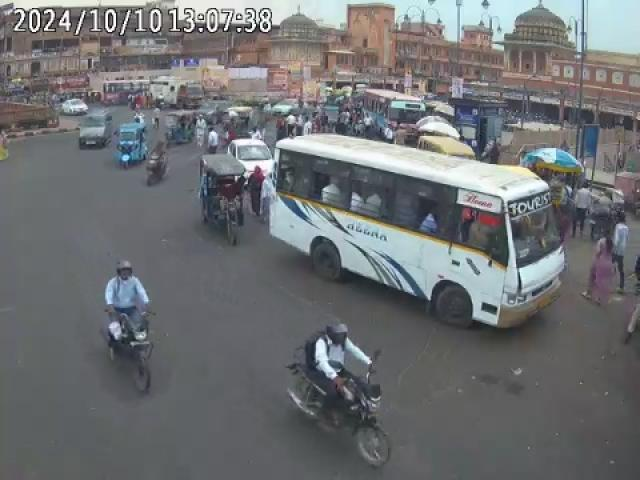auto: (198, 153, 250, 246), (114, 120, 147, 166), (160, 112, 194, 144)
bus: (272, 131, 570, 332), (368, 86, 432, 134)
car: (78, 111, 114, 150), (59, 99, 90, 116)
helmet: (323, 322, 352, 344), (114, 260, 136, 280)
motorbike-rider: (278, 322, 386, 476), (98, 258, 156, 397)
person: (610, 215, 632, 292), (246, 167, 268, 220), (418, 212, 438, 236)
scooty-rider: (146, 146, 172, 184)
